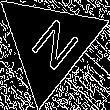N_SW: (19, 11, 80, 76)
